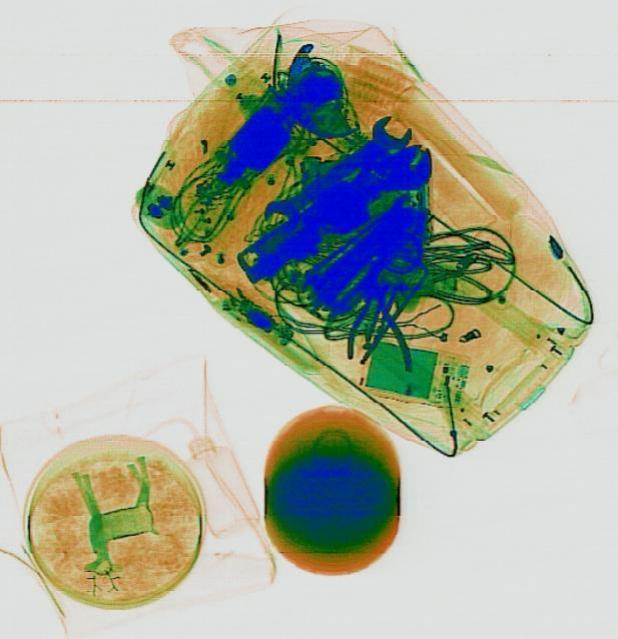Pliers: (344, 274, 413, 371)
Wrench: (254, 106, 414, 238)
